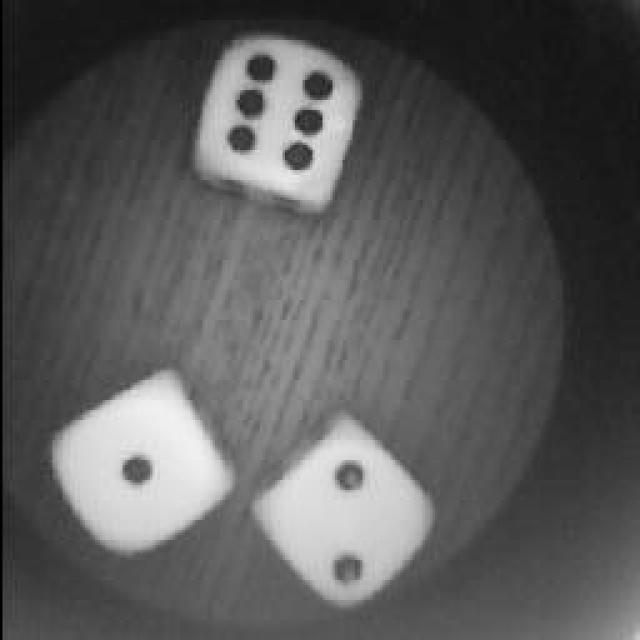dice_1: (47, 377, 235, 555)
dice_2: (252, 420, 438, 610)
dice_6: (192, 30, 362, 205)
